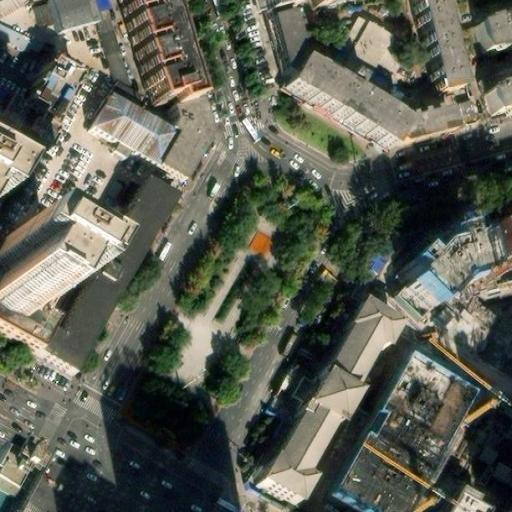building: (252, 312, 395, 512), (49, 174, 182, 361), (337, 350, 480, 512), (284, 63, 406, 154), (162, 0, 222, 181), (0, 52, 92, 166), (125, 0, 195, 107), (399, 238, 487, 323), (322, 15, 412, 98), (432, 235, 512, 323), (94, 90, 181, 163), (418, 0, 468, 92), (0, 286, 64, 341), (389, 111, 466, 154), (265, 19, 299, 91), (98, 17, 129, 84), (0, 453, 32, 511), (471, 17, 512, 61), (449, 483, 500, 512), (484, 224, 512, 267), (0, 26, 39, 54), (491, 84, 512, 114)
